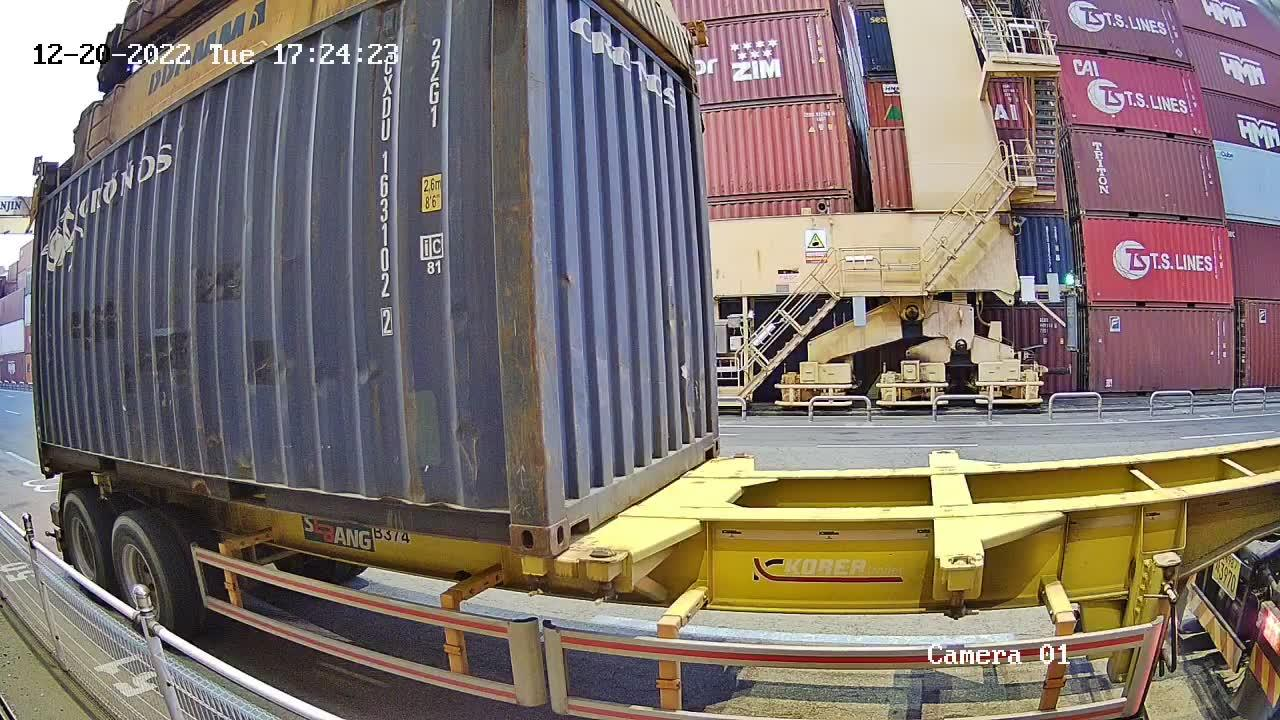Chassis: (579, 454, 753, 564)
Cone: (582, 546, 624, 606), (514, 552, 549, 586), (730, 450, 749, 464)
Hole_L: (547, 470, 592, 557)
Hole_R: (472, 482, 547, 555), (695, 420, 723, 462)
Tire: (110, 512, 175, 639), (61, 494, 103, 596)
